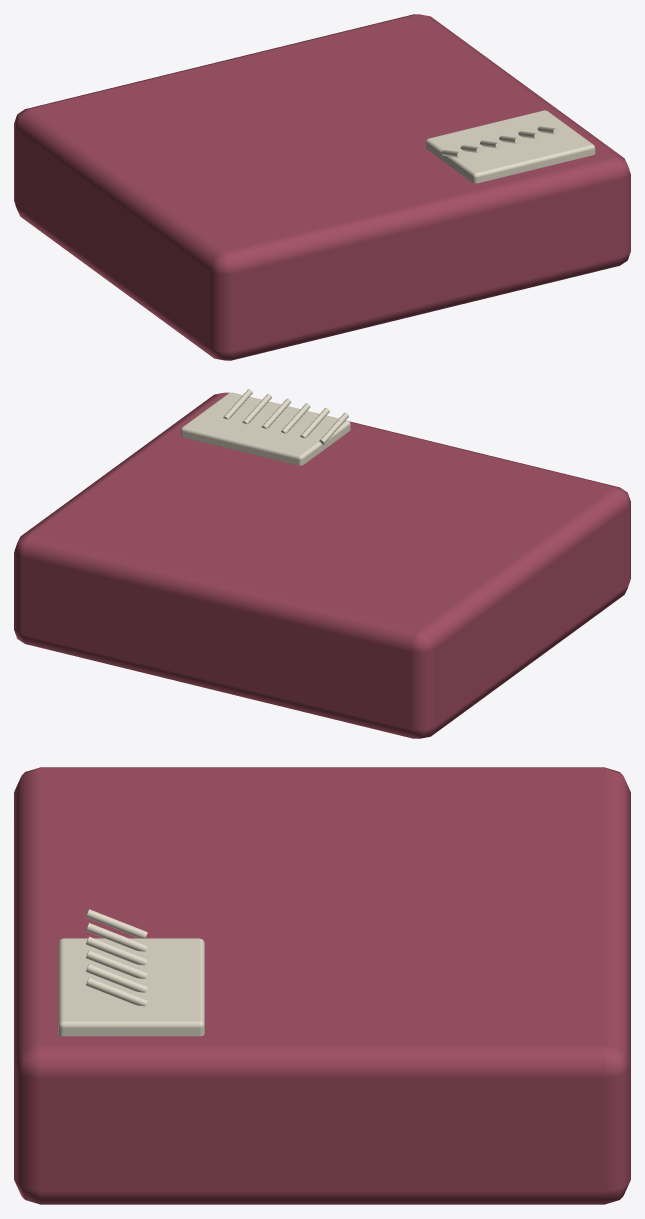
File: abandoned-cinema-and-projection-booth-abandoned-cinema-e8ed443d__29732.glb
3 renders of one model, top to bottom at view 1: azimuth 30°, elevation 25°; view 2: azimuth 150°, elevation 25°; view 3: azimuth 270°, elevation 25°, orthographic. The views are drawn at different scales.
Visible parts, largest first — view 1: abandoned-cinema-and-projection-booth-broken-seat-cushion; view 2: abandoned-cinema-and-projection-booth-broken-seat-cushion; view 3: abandoned-cinema-and-projection-booth-broken-seat-cushion.
Part boxes in pixels (x1=…): abandoned-cinema-and-projection-booth-broken-seat-cushion: x1=14, y1=14, x2=630, y2=360; abandoned-cinema-and-projection-booth-broken-seat-cushion: x1=14, y1=389, x2=630, y2=738; abandoned-cinema-and-projection-booth-broken-seat-cushion: x1=14, y1=767, x2=630, y2=1204.
Size of the model in its own units: 0.48 by 0.1478 by 0.42.
